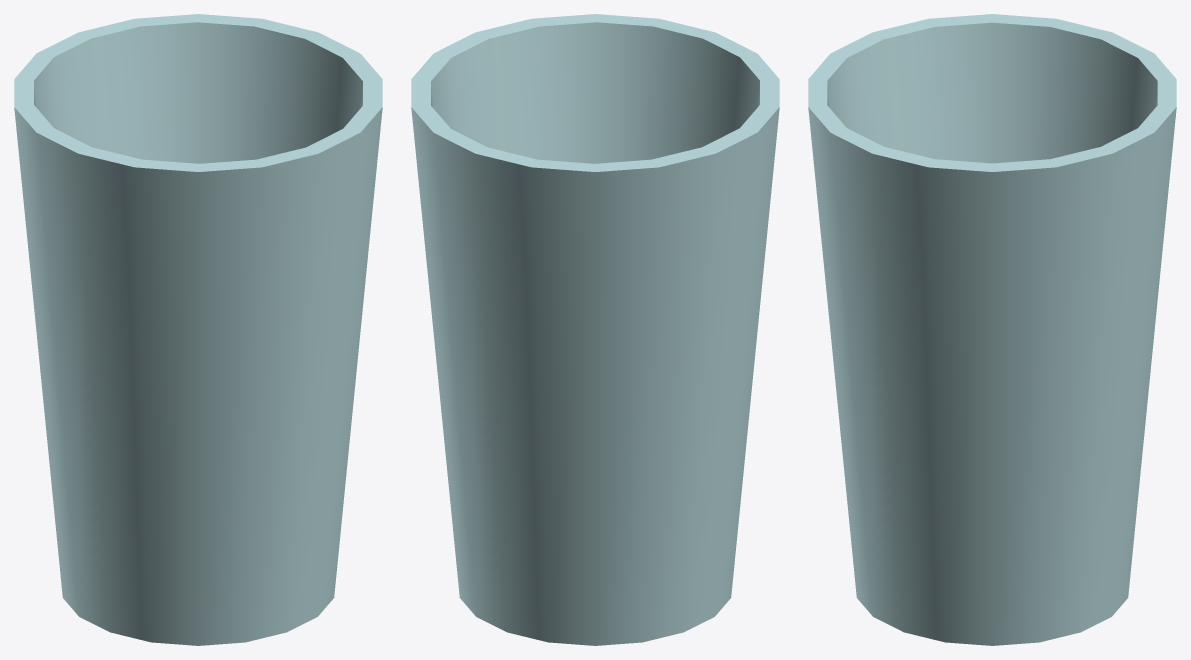
Rendered from Vaso.fbx.
The picture shows the model from 3 angles, left to right: view 1: azimuth 30°, elevation 25°; view 2: azimuth 150°, elevation 25°; view 3: azimuth 270°, elevation 25°; orthographic projection.
Parts seen in each view (by area): view 1: vaso; view 2: vaso; view 3: vaso.
Boxes of the visible parts, <box> form: vaso: <box>14,14,382,645</box>; vaso: <box>411,14,779,645</box>; vaso: <box>808,14,1176,645</box>.
Bounding box in the file's own units: 11.96 × 17.45 × 11.78.
